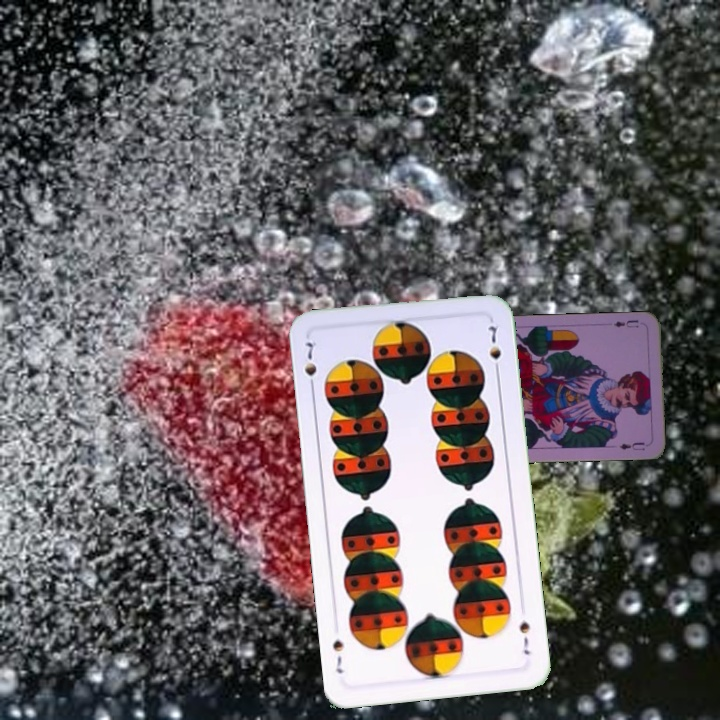EU: (610, 316, 641, 331)
S7: (300, 337, 320, 394), (515, 617, 533, 657)
